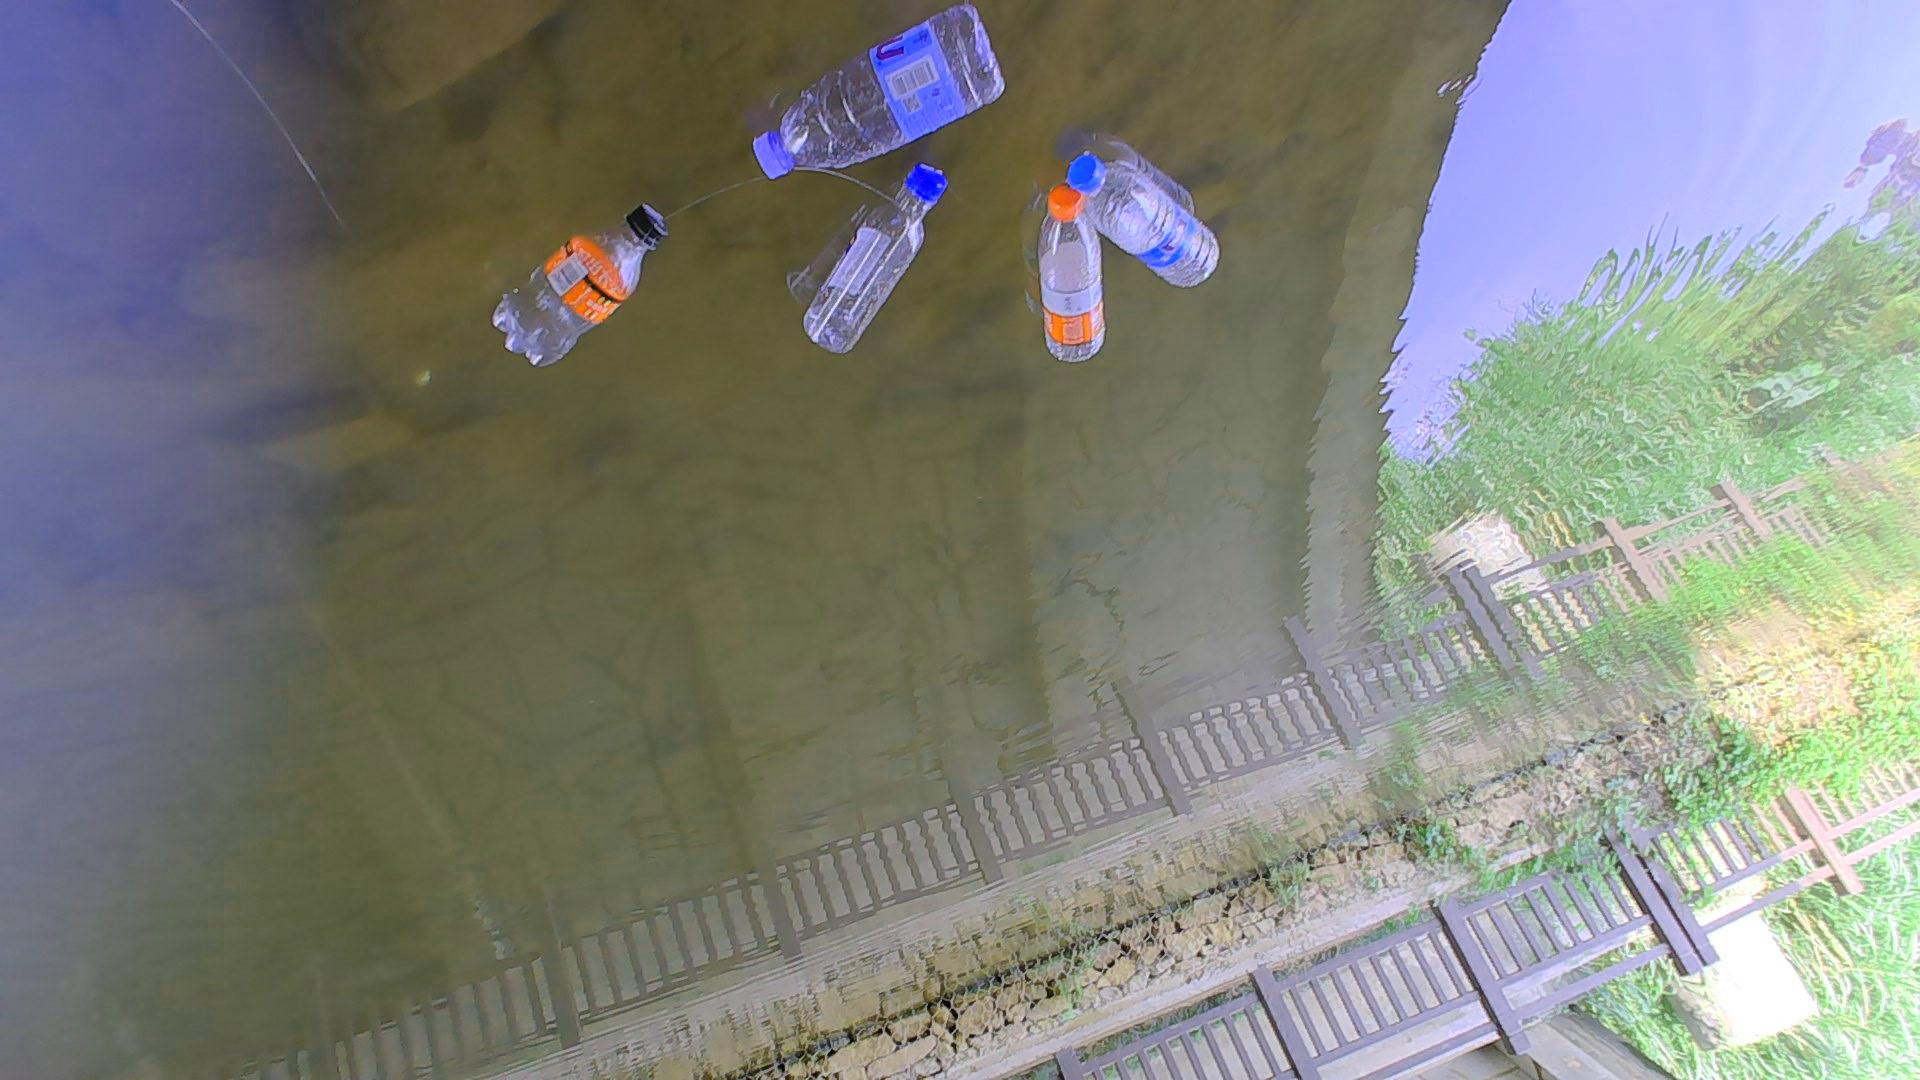Glass: (804, 164, 953, 363)
Plastic: (741, 7, 1006, 185), (484, 204, 670, 375), (1067, 157, 1225, 294), (1031, 189, 1106, 376)
